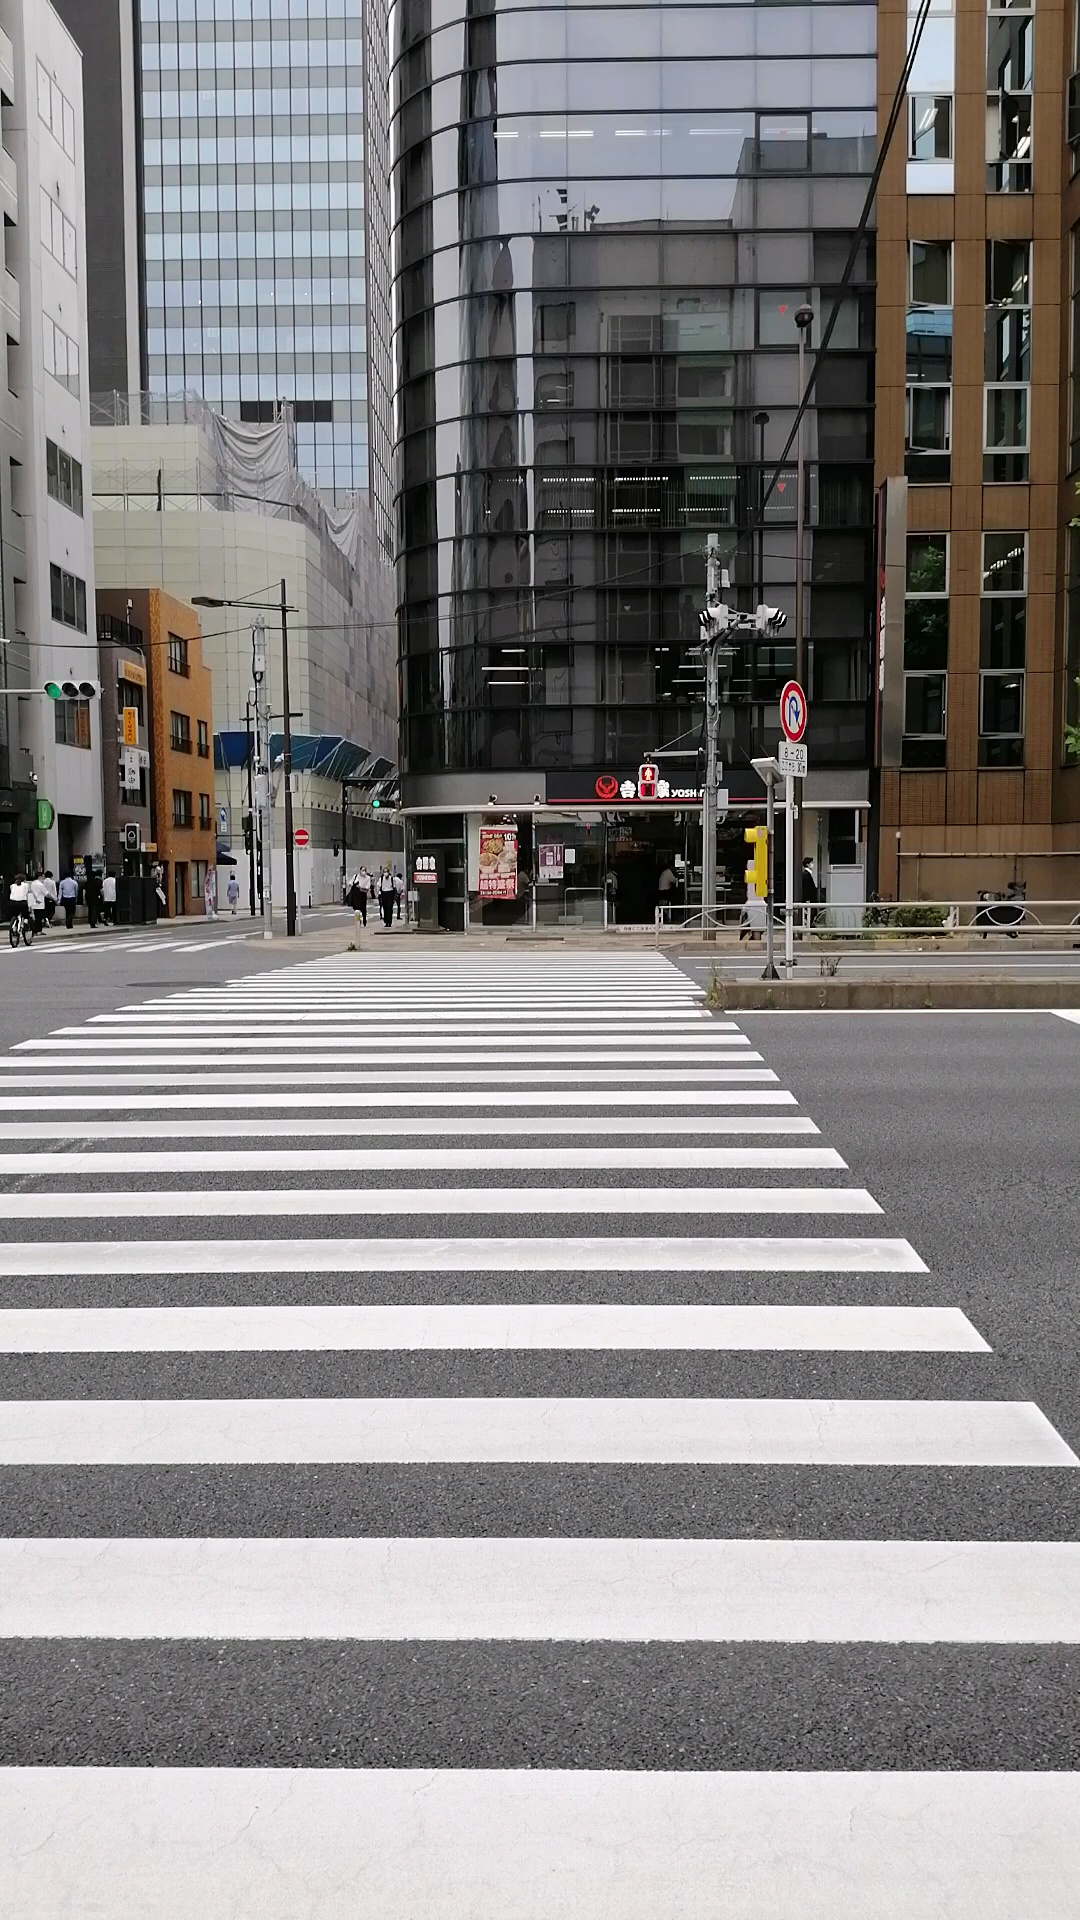red: (637, 762, 658, 800)
